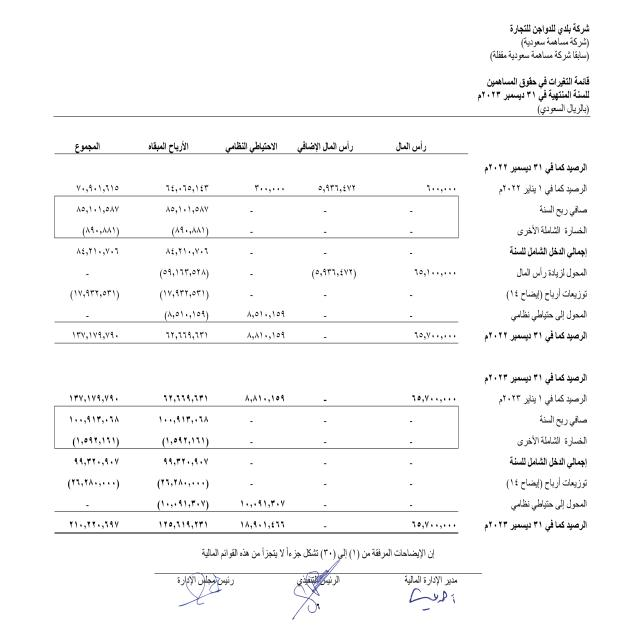financial_sheets: (480, 73, 590, 88)
table: (18, 135, 470, 539)
